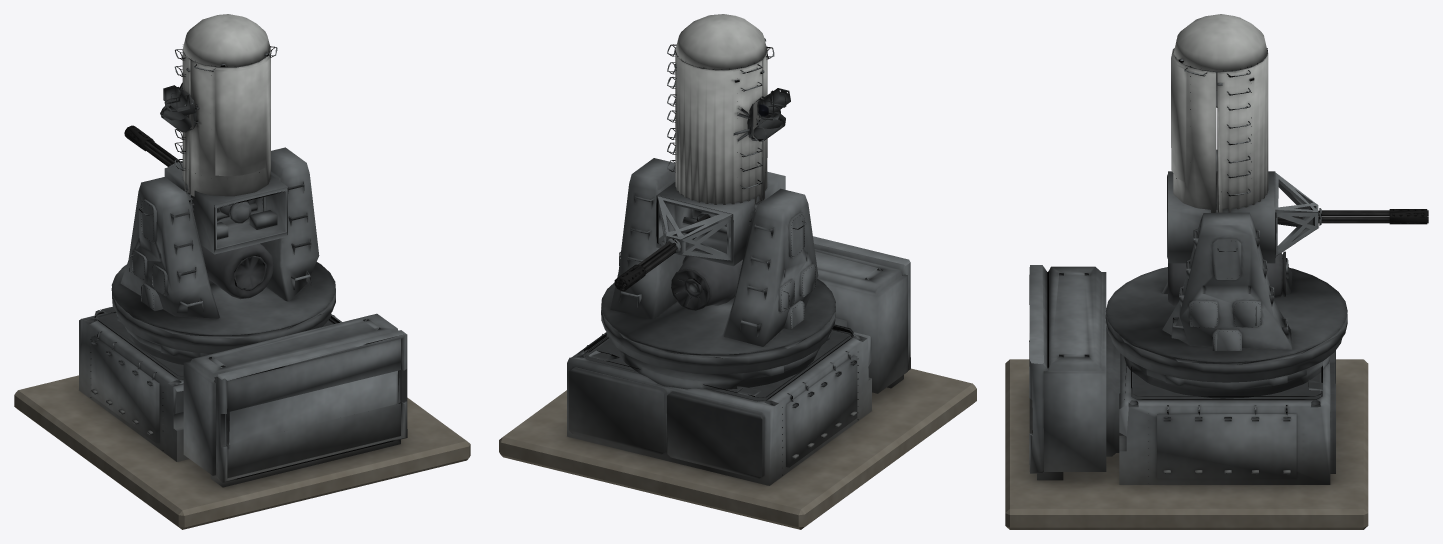
The model's file is cram.glb.
3 views of the same model, side by side, from view 1: azimuth 30°, elevation 25°; view 2: azimuth 150°, elevation 25°; view 3: azimuth 270°, elevation 25° (orthographic). The views are drawn at different scales.
Visible parts, largest first — view 1: hull, turret, barrel; view 2: hull, turret, barrel; view 3: hull, turret, barrel.
Boxes of the visible parts, left/top/right/bottom form: hull: left=14, top=284, right=470, bottom=529; turret: left=111, top=14, right=406, bottom=380; barrel: left=124, top=125, right=182, bottom=166; hull: left=499, top=243, right=976, bottom=529; turret: left=601, top=14, right=910, bottom=358; barrel: left=614, top=214, right=710, bottom=290; hull: left=1005, top=265, right=1368, bottom=529; turret: left=1029, top=14, right=1347, bottom=364; barrel: left=1277, top=203, right=1428, bottom=227.
Bounding box in the file's own units: 3.9 × 5.16 × 4.55.
1 material, 1 textured.
